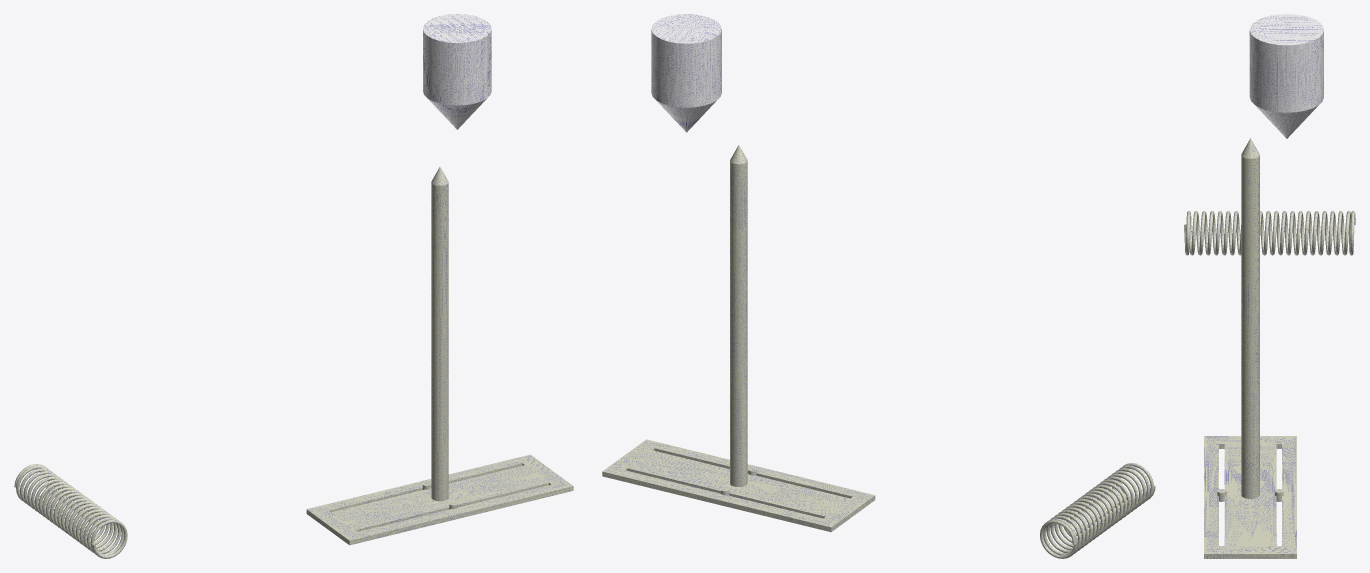
The model's file is centripetal.dae.
3 renders of one model, left to right at view 1: azimuth 30°, elevation 25°; view 2: azimuth 150°, elevation 25°; view 3: azimuth 270°, elevation 25°, orthographic. The views are drawn at different scales.
Visible parts, largest first — view 1: pointer (×2), mass, group_0; view 2: pointer (×2), mass, group_0; view 3: pointer (×2), mass, group_0.
Boxes of the visible parts, left/top/right/bottom form: pointer (×2): left=306, top=167, right=573, bottom=545; mass: left=423, top=14, right=491, bottom=129; group_0: left=14, top=464, right=127, bottom=558; pointer (×2): left=602, top=145, right=875, bottom=532; mass: left=651, top=14, right=721, bottom=132; group_0: left=1040, top=463, right=1155, bottom=558; pointer (×2): left=1204, top=138, right=1296, bottom=558; mass: left=1249, top=14, right=1323, bottom=138; group_0: left=1184, top=211, right=1355, bottom=255.
Bounding box in the file's own units: 12.91 × 3.63 × 11.42.
